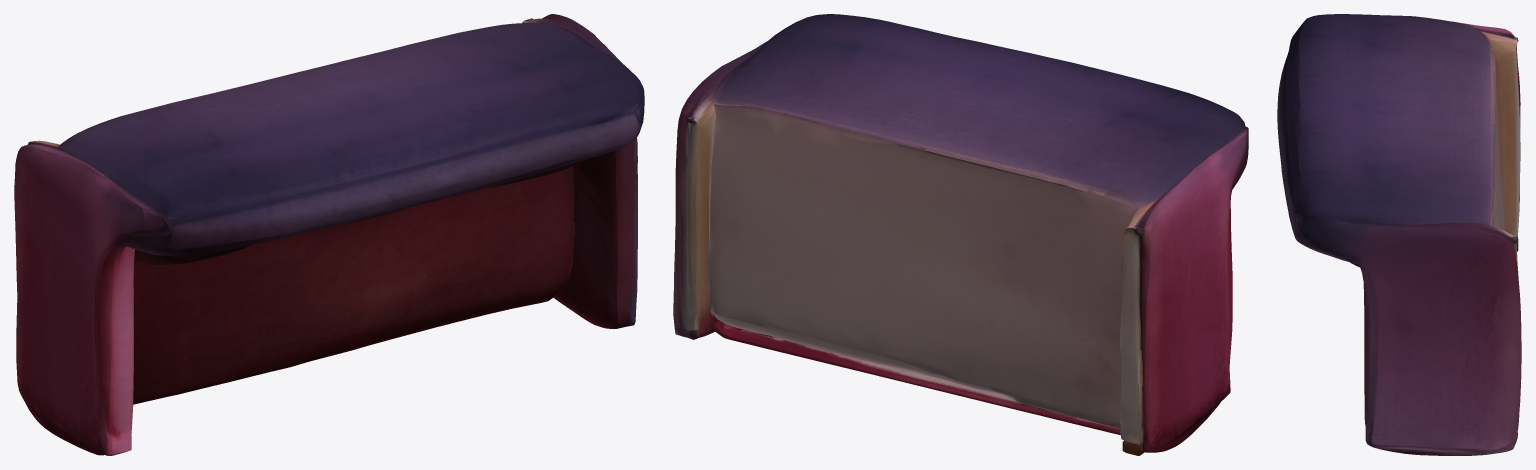
The model's file is out_sim.glb.
3 views of the same model, side by side, from view 1: azimuth 30°, elevation 25°; view 2: azimuth 150°, elevation 25°; view 3: azimuth 270°, elevation 25° (orthographic). The views are drawn at different scales.
Visible parts, largest first — view 1: world; view 2: world; view 3: world.
Boxes of the visible parts, bbox=[...] form: world: bbox=[14, 14, 644, 455]; world: bbox=[673, 14, 1248, 455]; world: bbox=[1277, 14, 1521, 455].
Bounding box in the file's own units: 0.9984 × 0.5353 × 0.474.
1 material, 1 textured.
